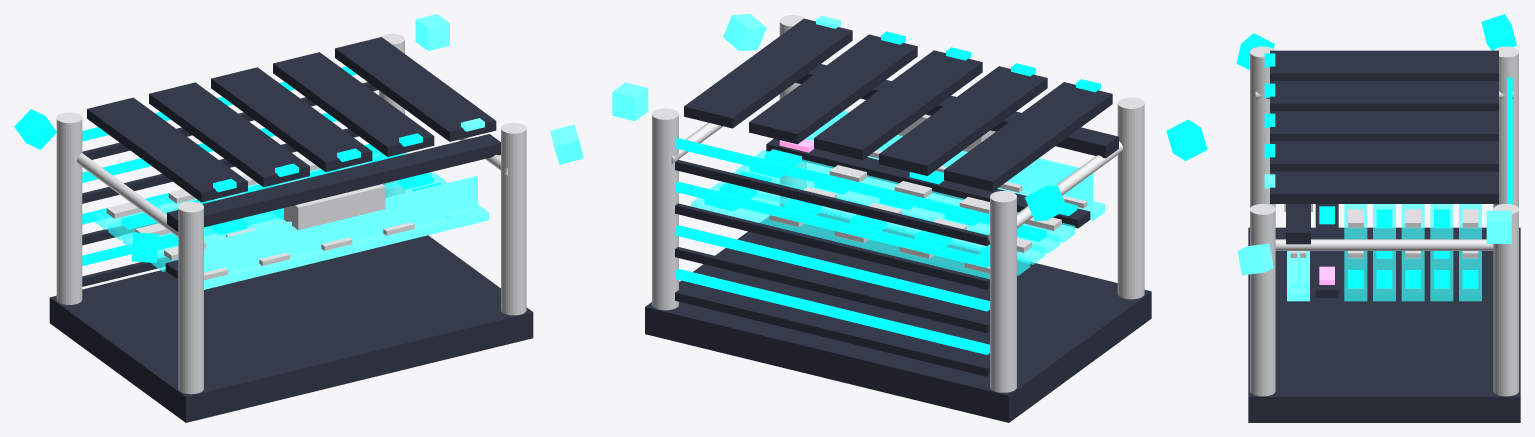
File: data_forge_monolith.glb
The picture shows the model from 3 angles, left to right: view 1: azimuth 30°, elevation 25°; view 2: azimuth 150°, elevation 25°; view 3: azimuth 270°, elevation 25°; orthographic projection. The views are drawn at different scales.
Parts seen in each view (by area): view 1: Monolith_Base, SynthesisLaserSheet, GantryCarriage, ColRail_Density, ColRail_Risk, ColRail_Class, ColRail_Age, ColRail_Income, Pillar_-2.6_1.7, Pillar_-2.6_-1.7, Pillar_2.6_-1.7, DataRow_Synthetic_Forged (+17 smaller); view 2: Monolith_Base, ColRail_Age, ColRail_Risk, ColRail_Class, ColRail_Density, ColRail_Income, Pillar_-2.6_-1.7, Pillar_-2.6_1.7, Pillar_2.6_1.7, HeatFin_3, HeatFin_0, HeatFin_1 (+19 smaller); view 3: Monolith_Base, ColRail_Class, ColRail_Age, ColRail_Income, ColRail_Density, ColRail_Risk, Pillar_2.6_-1.7, Pillar_2.6_1.7, Pillar_-2.6_-1.7, Pillar_-2.6_1.7, GantryRail_2.5, DataRow_Min_Crisis (+24 smaller).
Boxes of the visible parts, bbox=[...] form: Monolith_Base: bbox=[49, 235, 533, 422]; SynthesisLaserSheet: bbox=[204, 176, 477, 272]; GantryCarriage: bbox=[167, 134, 500, 231]; ColRail_Density: bbox=[273, 52, 434, 156]; ColRail_Risk: bbox=[211, 67, 372, 171]; ColRail_Class: bbox=[335, 37, 496, 141]; ColRail_Age: bbox=[87, 97, 247, 202]; ColRail_Income: bbox=[149, 82, 309, 187]; Pillar_-2.6_1.7: bbox=[56, 112, 82, 304]; Pillar_-2.6_-1.7: bbox=[178, 201, 203, 394]; Pillar_2.6_-1.7: bbox=[501, 122, 526, 315]; DataRow_Synthetic_Forged: bbox=[204, 204, 489, 289]; Monolith_Base: bbox=[645, 213, 1151, 422]; ColRail_Age: bbox=[944, 82, 1112, 191]; ColRail_Risk: bbox=[814, 50, 982, 160]; ColRail_Class: bbox=[684, 18, 852, 128]; ColRail_Density: bbox=[749, 34, 917, 144]; ColRail_Income: bbox=[879, 66, 1047, 175]; Pillar_-2.6_-1.7: bbox=[1117, 97, 1144, 299]; Pillar_-2.6_1.7: bbox=[990, 191, 1016, 392]; Pillar_2.6_1.7: bbox=[652, 108, 678, 310]; HeatFin_3: bbox=[675, 225, 989, 311]; HeatFin_0: bbox=[675, 290, 989, 376]; HeatFin_1: bbox=[675, 268, 989, 354]; Monolith_Base: bbox=[1248, 227, 1520, 422]; ColRail_Class: bbox=[1270, 171, 1498, 203]; ColRail_Age: bbox=[1270, 50, 1498, 80]; ColRail_Income: bbox=[1270, 81, 1498, 111]; ColRail_Density: bbox=[1270, 141, 1498, 171]; ColRail_Risk: bbox=[1270, 111, 1498, 141]; Pillar_2.6_-1.7: bbox=[1250, 204, 1275, 396]; Pillar_2.6_1.7: bbox=[1493, 204, 1518, 396]; Pillar_-2.6_-1.7: bbox=[1250, 46, 1275, 207]; Pillar_-2.6_1.7: bbox=[1493, 46, 1518, 208]; GantryRail_2.5: bbox=[1275, 239, 1493, 250]; DataRow_Min_Crisis: bbox=[1315, 204, 1338, 297].
Bounding box in the file's own units: 7.33 × 3.49 × 3.97.
